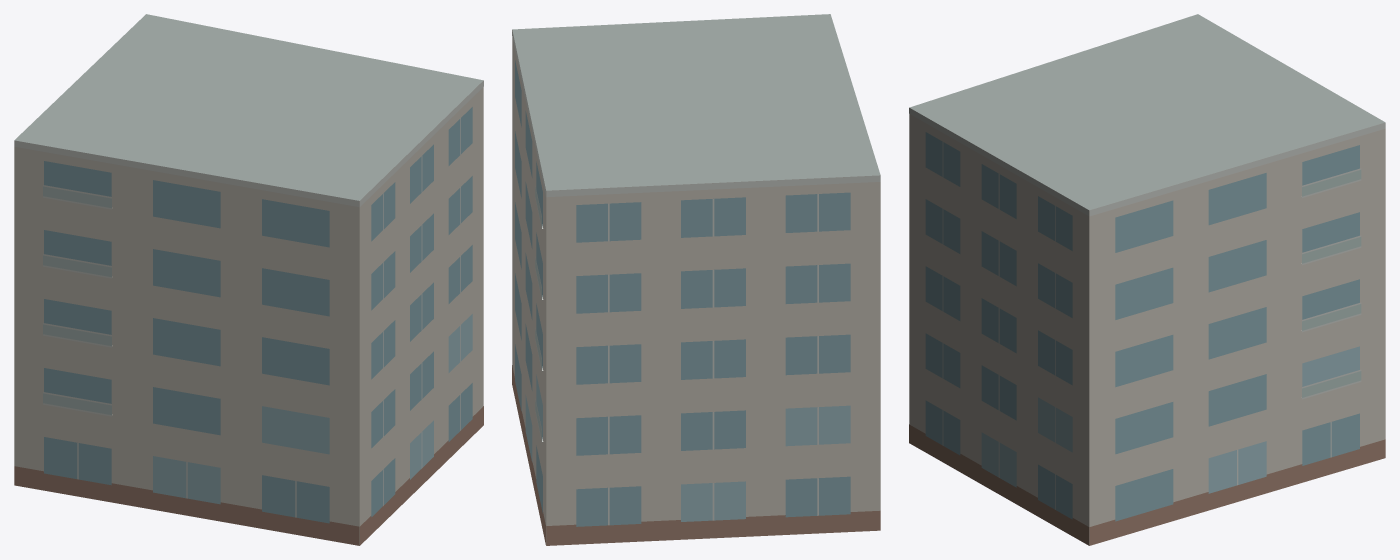
File: survey-upis-32958814.glb
The picture shows the model from 3 angles, left to right: view 1: azimuth 30°, elevation 25°; view 2: azimuth 150°, elevation 25°; view 3: azimuth 270°, elevation 25°; orthographic projection. The views are drawn at different scales.
Visible parts, largest first — view 1: survey-upis-32958814.tmp; view 2: survey-upis-32958814.tmp; view 3: survey-upis-32958814.tmp.
Boxes of the visible parts, x1,y1,x2,y2 form: survey-upis-32958814.tmp: [14, 14, 483, 545]; survey-upis-32958814.tmp: [512, 14, 880, 545]; survey-upis-32958814.tmp: [909, 14, 1385, 545].
Size of the model in its own units: 16.7 by 13.3 by 17.12.
